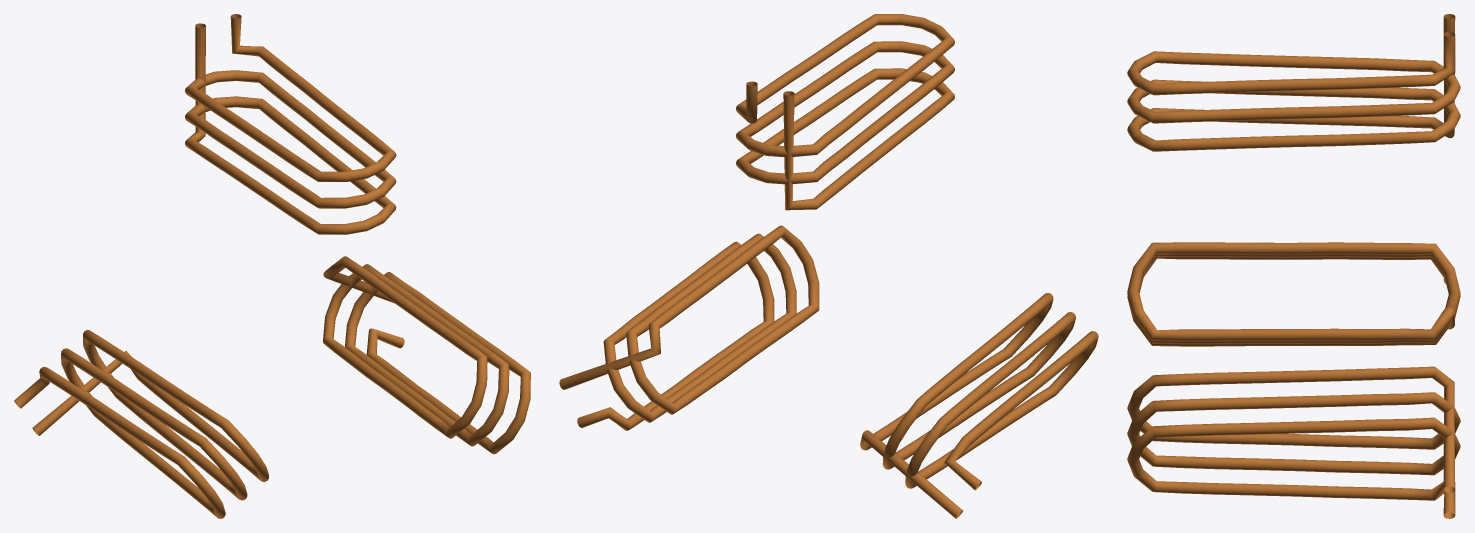
File: DCblCoil5.glb
The picture shows the model from 3 angles, left to right: view 1: azimuth 30°, elevation 25°; view 2: azimuth 150°, elevation 25°; view 3: azimuth 270°, elevation 25°; orthographic projection. The views are drawn at different scales.
Parts seen in each view (by area): view 1: Spiral.004, Spiral.002, Spiral.001; view 2: Spiral.004, Spiral.002, Spiral.001; view 3: Spiral.001, Spiral.004, Spiral.002.
Boxes of the visible parts, x1,y1,x2,y2 form: Spiral.004: (185,14,396,234); Spiral.002: (14,330,268,518); Spiral.001: (323,256,530,454); Spiral.004: (736,14,954,210); Spiral.002: (860,293,1098,518); Spiral.001: (559,225,819,430); Spiral.001: (1127,366,1460,518); Spiral.004: (1127,14,1460,151); Spiral.002: (1127,242,1460,346).
Size of the model in its own units: 6.88 by 6.02 by 4.56.
